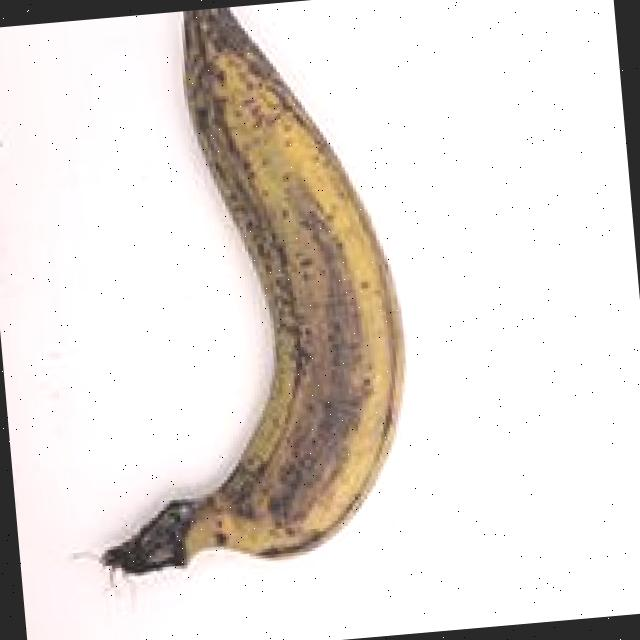Overripe: (42, 0, 464, 594)
